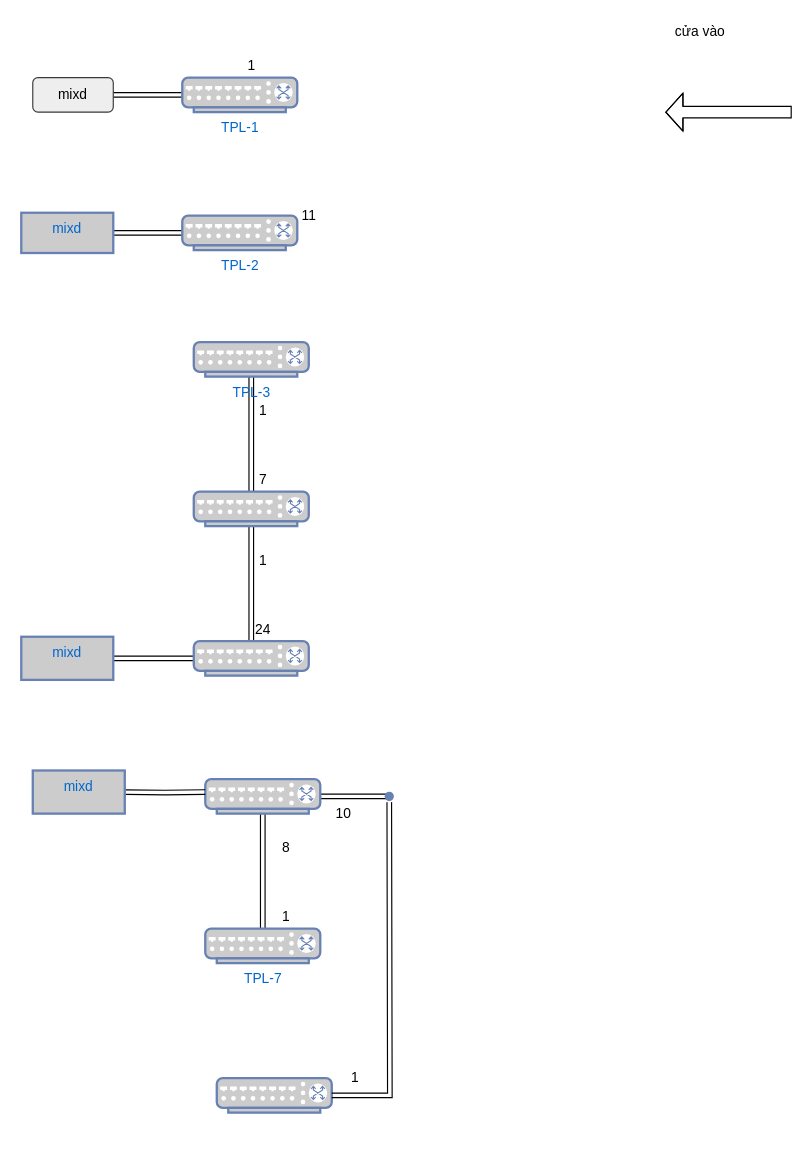
The diagram is 811 pixels wide and 1156 high, and some of its shapes have lost their labels. Here are the shapes that lost their labels. From the top down, the centre of each, then its label:
pixel 250 508: TPL-4
pixel 250 657: TPL-5
pixel 262 795: TPL-6
pixel 273 1094: TPL-8
